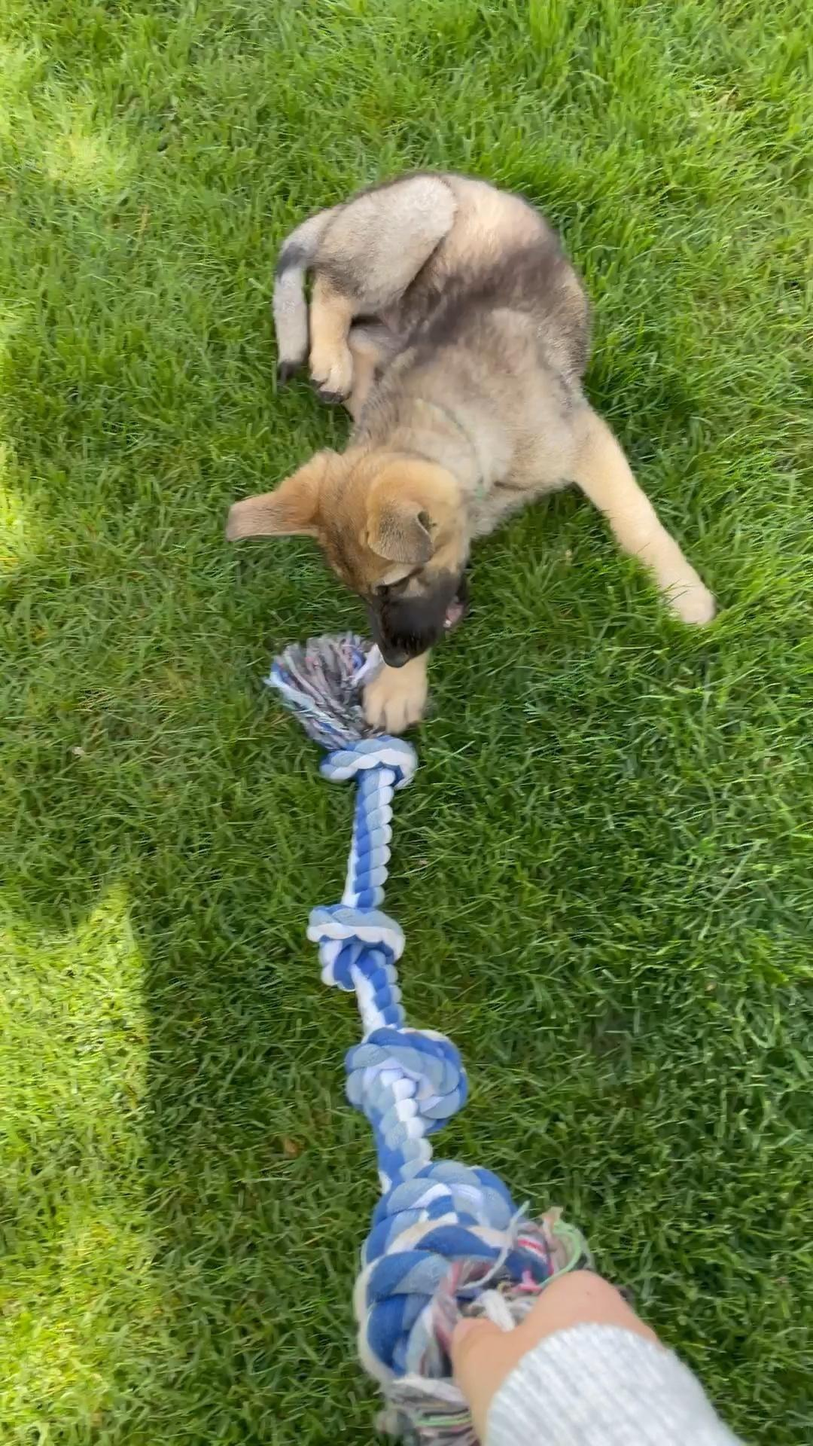puppy-dog: (225, 167, 717, 733)
